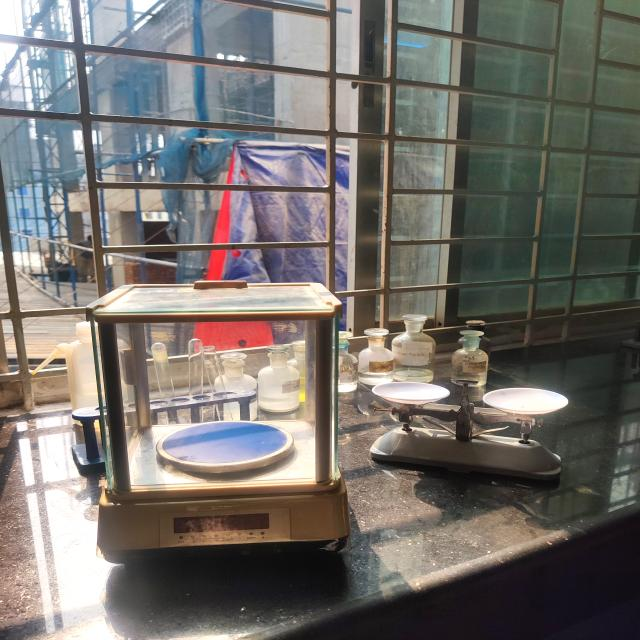Mechanical_Balance_Scale: (357, 355, 582, 496)
Precision_Weight_Scale: (57, 272, 376, 581)
